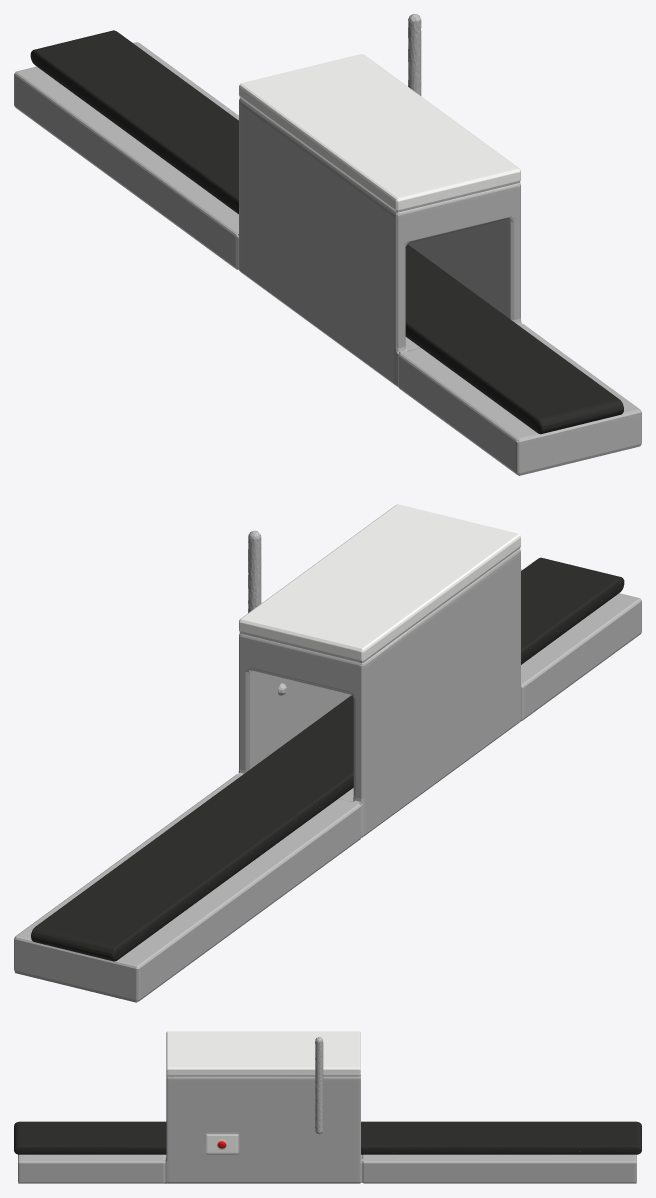
File: fliessband.obj
3 renders of one model, top to bottom at view 1: azimuth 30°, elevation 25°; view 2: azimuth 150°, elevation 25°; view 3: azimuth 270°, elevation 25°, orthographic. The views are drawn at different scales.
Parts seen in each view (by area): view 1: 272926_23_05_25_12_33_32_0, 272926_23_05_25_12_33_32_1, 272926_23_05_25_12_33_32_3; view 2: 272926_23_05_25_12_33_32_0, 272926_23_05_25_12_33_32_1, 272926_23_05_25_12_33_32_3; view 3: 272926_23_05_25_12_33_32_0, 272926_23_05_25_12_33_32_1, 272926_23_05_25_12_33_32_3.
Boxes of the visible parts, left/top/right/bottom form: 272926_23_05_25_12_33_32_0: left=14, top=42, right=641, bottom=475; 272926_23_05_25_12_33_32_1: left=30, top=30, right=623, bottom=434; 272926_23_05_25_12_33_32_3: left=408, top=14, right=421, bottom=95; 272926_23_05_25_12_33_32_0: left=14, top=504, right=641, bottom=1002; 272926_23_05_25_12_33_32_1: left=31, top=557, right=624, bottom=961; 272926_23_05_25_12_33_32_3: left=248, top=530, right=286, bottom=695; 272926_23_05_25_12_33_32_0: left=18, top=1031, right=636, bottom=1183; 272926_23_05_25_12_33_32_1: left=14, top=1121, right=641, bottom=1154; 272926_23_05_25_12_33_32_3: left=315, top=1037, right=323, bottom=1134.
Bounding box in the file's own units: 15.72 × 25.07 × 93.86.
3 materials, 3 textured.
